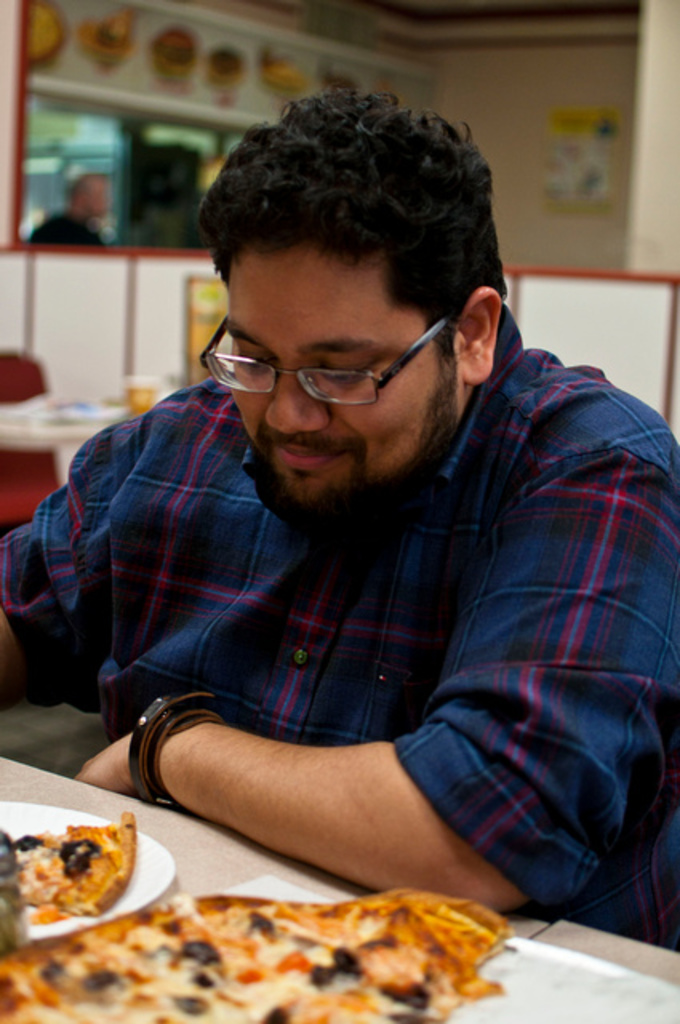Pizza: (36, 894, 505, 1014), (12, 807, 132, 916)
